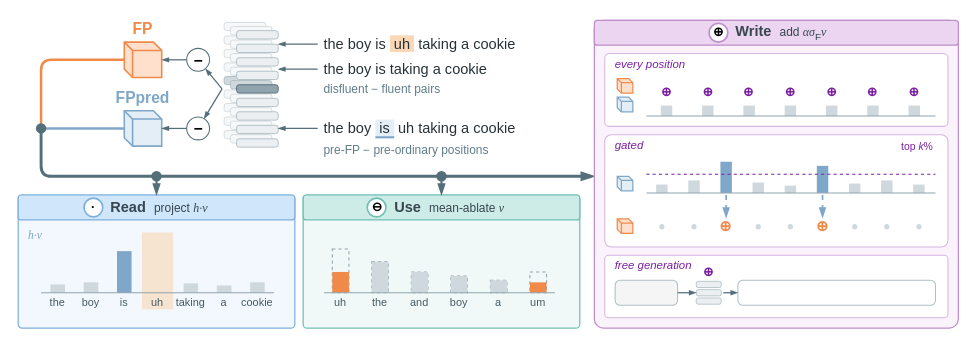
The diagram is 978 pixels wide and 346 high, and some of its shapes have lost their labels. Each missing label, with the centre of its shape:
"prompt" belongs at point (646, 292).
"the boy [FP] is [FP] taking …" belongs at point (836, 292).
